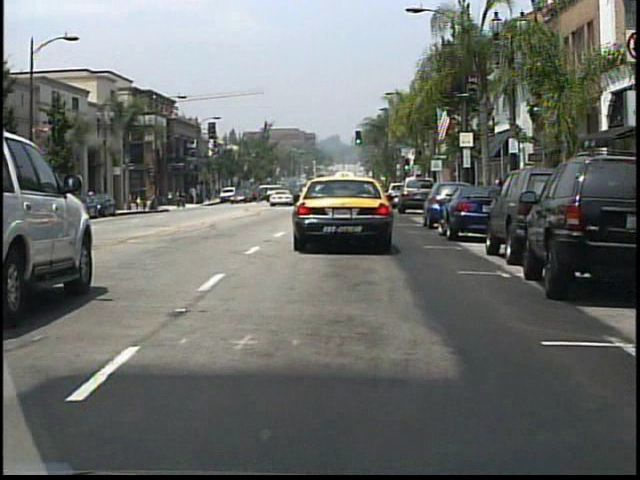person: (183, 190, 191, 210)
